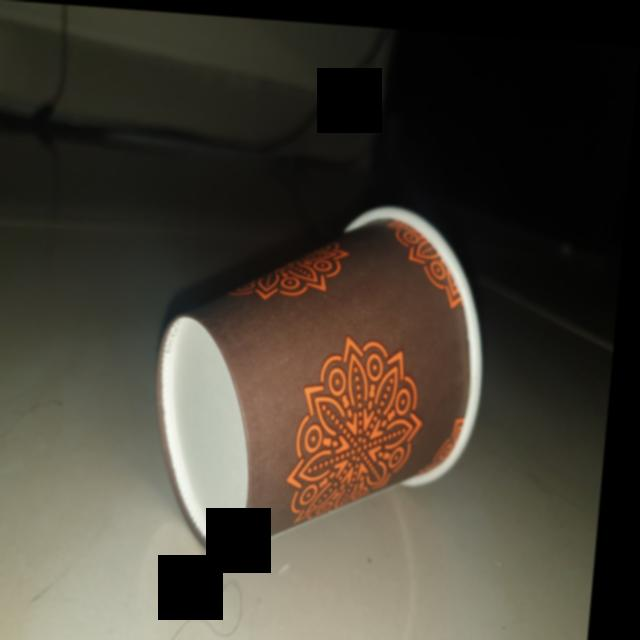cups: (145, 174, 506, 576)
